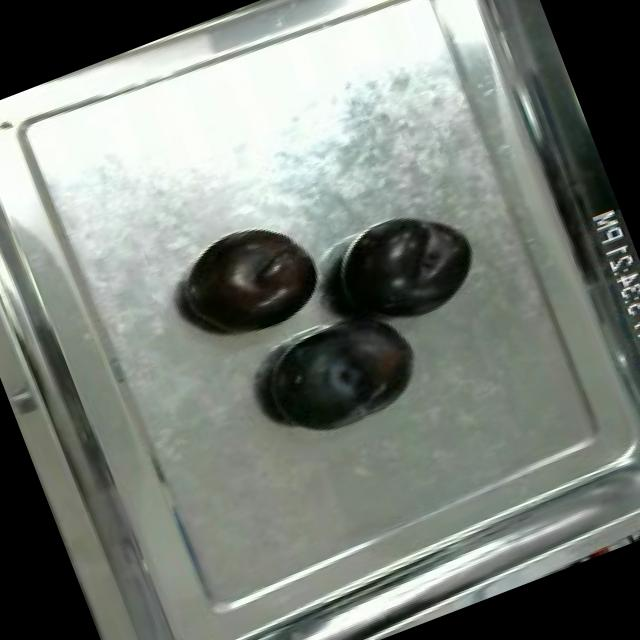Fruit: (248, 296, 437, 455), (316, 194, 494, 348), (166, 208, 337, 358)
